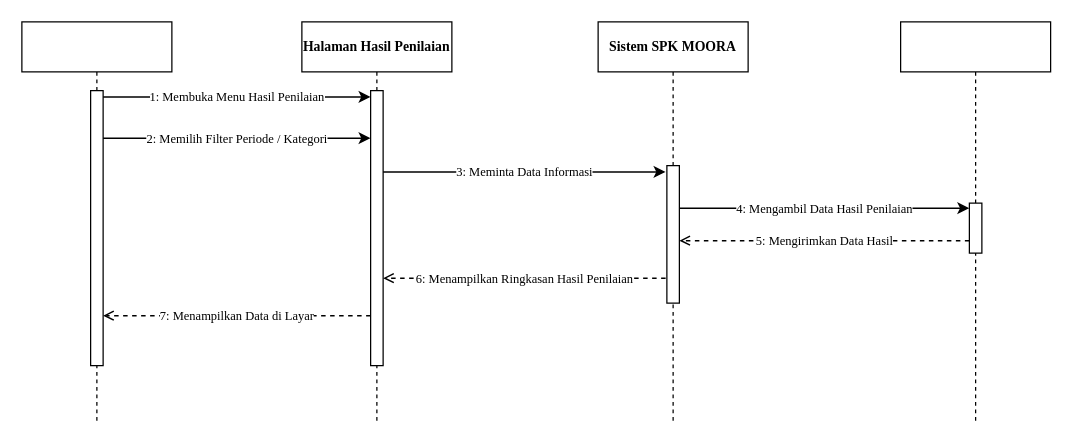
The diagram is 1073 pixels wide and 444 high, and some of its shapes have lost their labels. Each missing label, with the box of its shape:
Data Penilaian: (899, 21, 1051, 422)
Pengguna: (21, 21, 172, 422)
